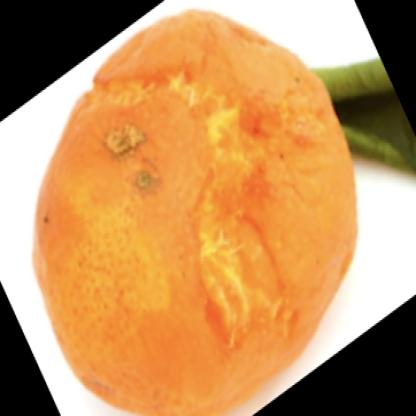rotten: (32, 12, 357, 416)
